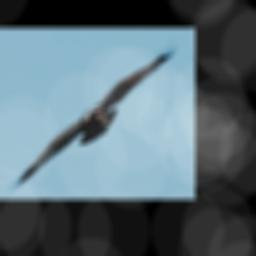Crow: (1, 33, 183, 194)
